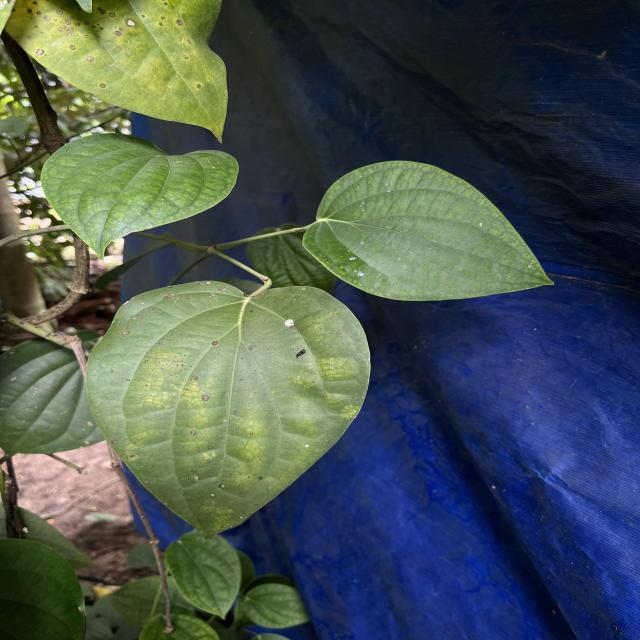Piper nigrum: (82, 278, 374, 542), (300, 158, 556, 302), (40, 132, 240, 264)
